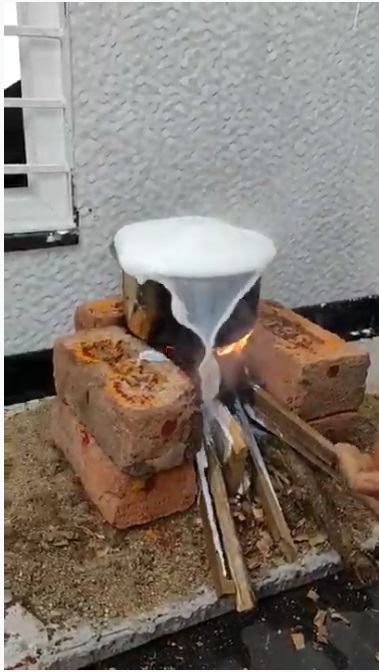Boiled: (101, 207, 287, 408)
